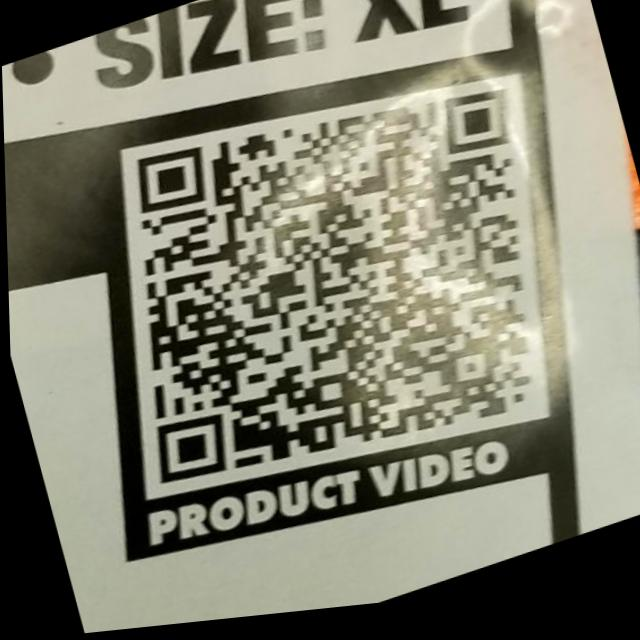QR_CODE: (59, 20, 601, 550)
